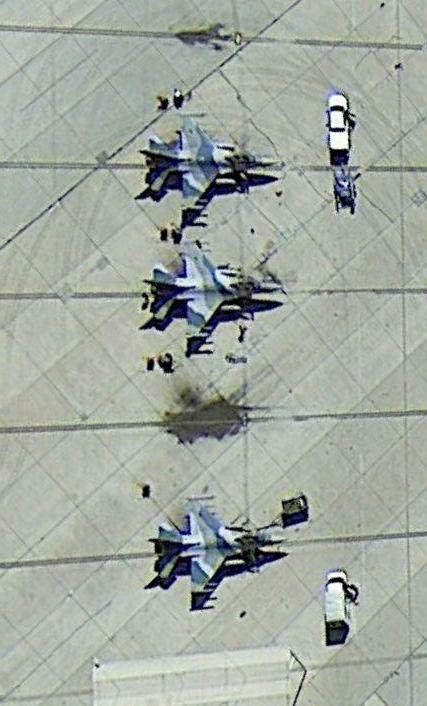F-16: (148, 240, 282, 343), (152, 501, 292, 599), (147, 117, 276, 208)
